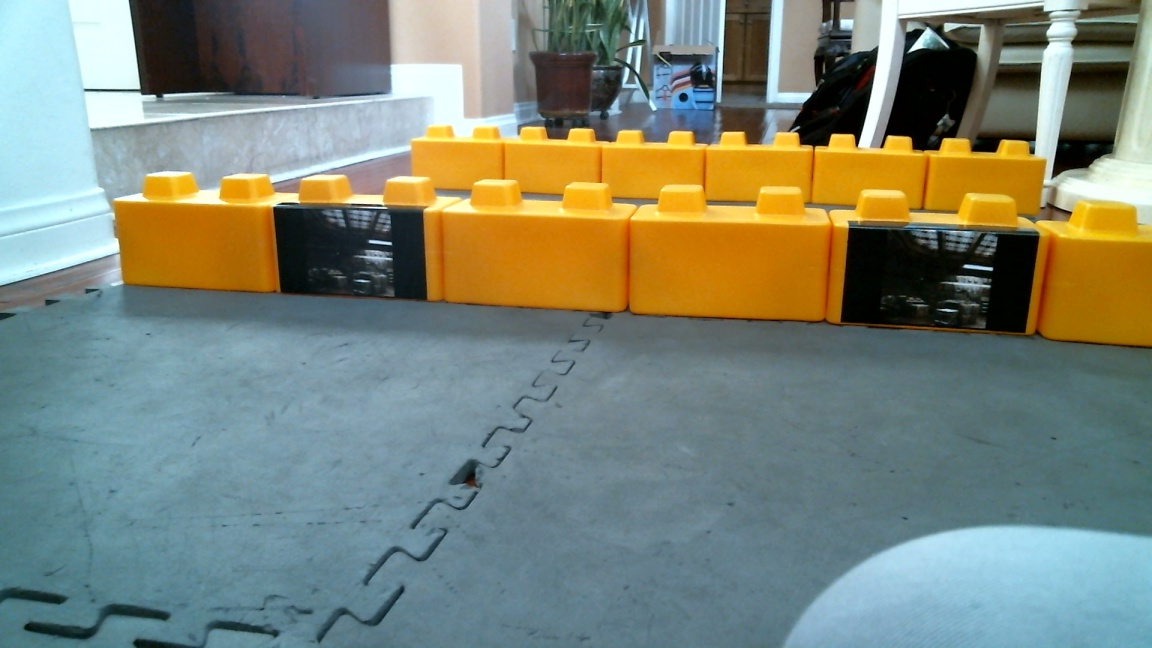skystone: (829, 187, 1048, 339), (272, 175, 441, 302)
stone: (627, 184, 830, 323), (444, 179, 633, 309), (116, 171, 282, 289), (1042, 201, 1152, 344), (814, 130, 927, 211), (927, 137, 1044, 215), (706, 131, 813, 204), (603, 128, 707, 202), (503, 125, 605, 197), (411, 124, 506, 190)
